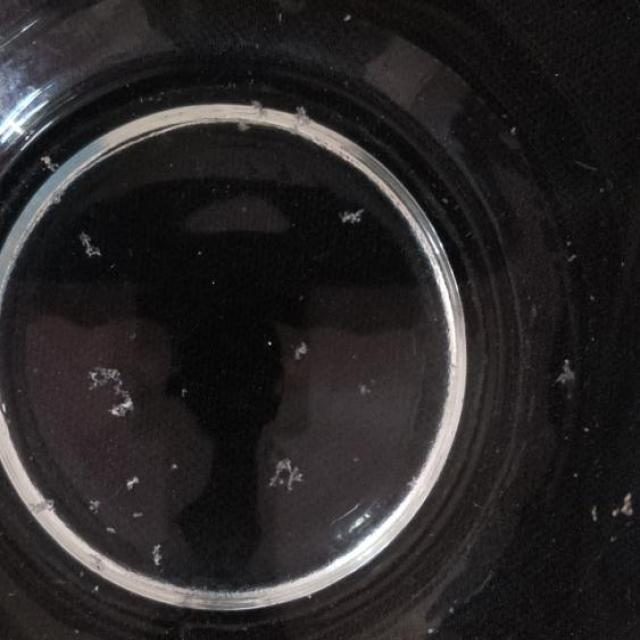fiber: (78, 358, 128, 394), (613, 484, 639, 530), (104, 390, 140, 418), (76, 226, 107, 256), (548, 360, 580, 388), (270, 462, 302, 488), (251, 89, 274, 123), (291, 339, 311, 364), (122, 473, 143, 496), (356, 379, 377, 402), (146, 542, 164, 566), (40, 152, 60, 173), (297, 101, 315, 124), (234, 117, 254, 137), (342, 210, 366, 226), (274, 3, 290, 24), (104, 523, 122, 540), (86, 496, 106, 511), (343, 7, 356, 24)
